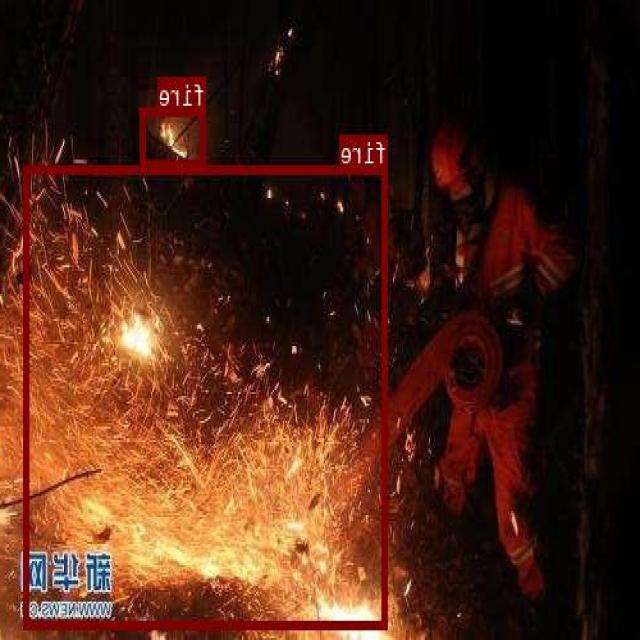fire: (25, 165, 388, 628), (141, 106, 207, 165)
